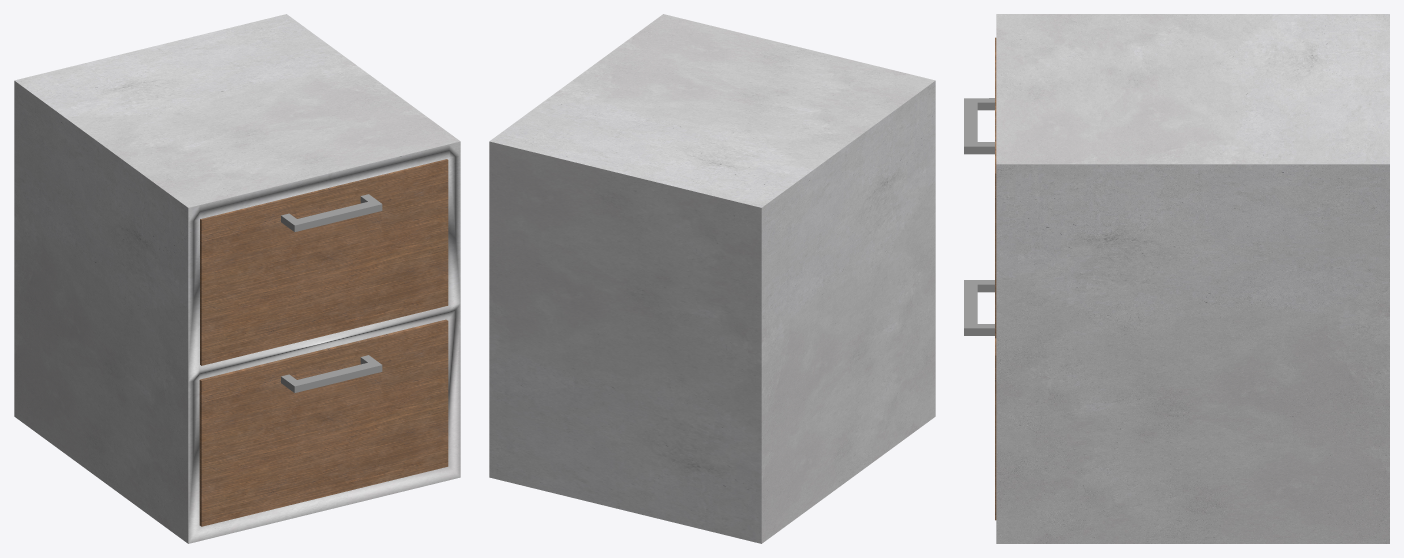
The model's file is drawer 1.fbx.
3 renders of one model, left to right at view 1: azimuth 30°, elevation 25°; view 2: azimuth 150°, elevation 25°; view 3: azimuth 270°, elevation 25°, orthographic. The views are drawn at different scales.
Parts seen in each view (by area): view 1: Drawwe, drawer_door1, drawer_door, drawer_handle, drawer_handle1; view 2: Drawwe; view 3: Drawwe, drawer_handle, drawer_handle1, drawer_door.
Boxes of the visible parts, x1,y1,x2,y2 form: Drawwe: (14,14,460,543); drawer_door1: (199,319,448,526); drawer_door: (200,159,448,365); drawer_handle: (281,194,382,231); drawer_handle1: (281,355,382,392); Drawwe: (489,14,935,543); Drawwe: (996,14,1389,543); drawer_handle: (964,98,994,154); drawer_handle1: (964,280,994,335); drawer_door: (995,37,996,338).
Size of the model in its own units: 0.7578 by 0.8934 by 0.9079.
Materials: 3 (2 with a texture image).
